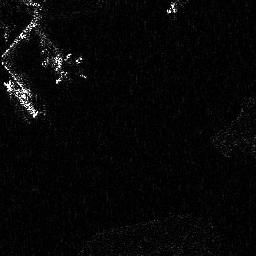ship: (1, 79, 39, 118)
